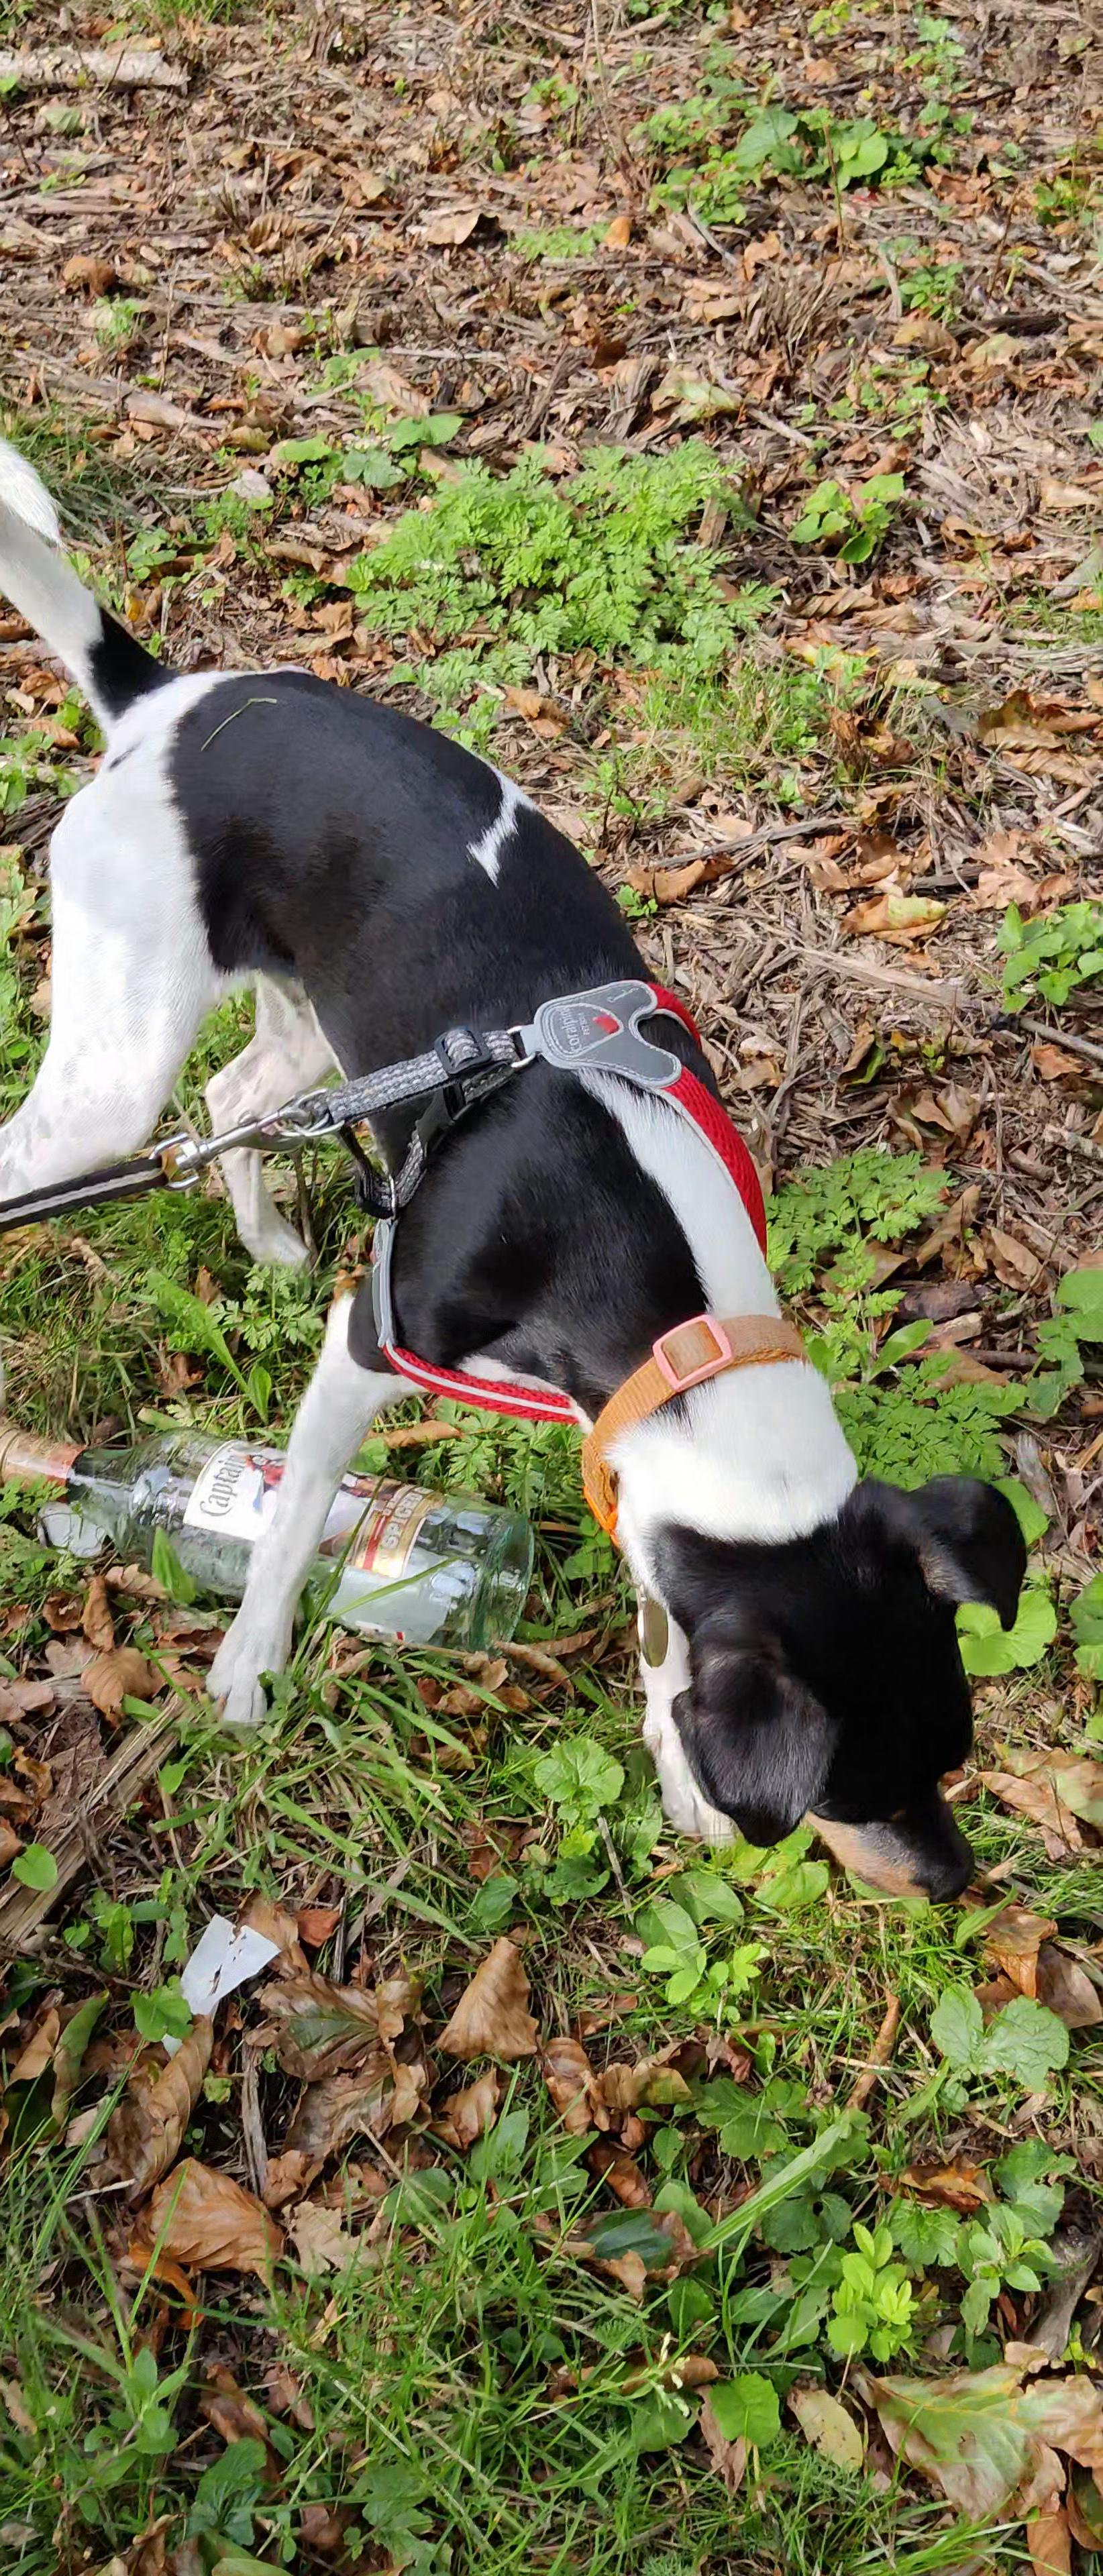Dog: (0, 444, 1026, 1914)
